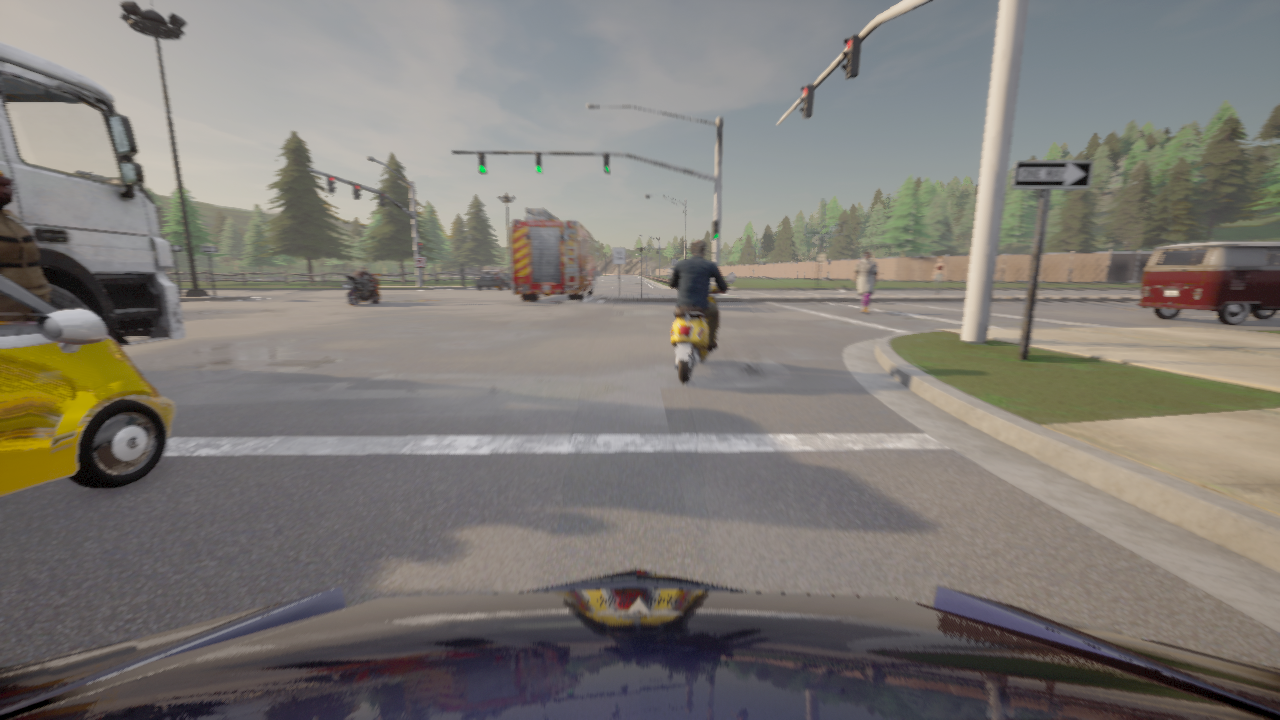cyclist: (0, 569, 1279, 719), (1137, 241, 1279, 325), (511, 208, 599, 300), (668, 269, 735, 382), (342, 273, 380, 305), (476, 270, 511, 289)
pedestrian: (853, 251, 879, 313), (933, 257, 945, 294), (460, 264, 464, 285)
